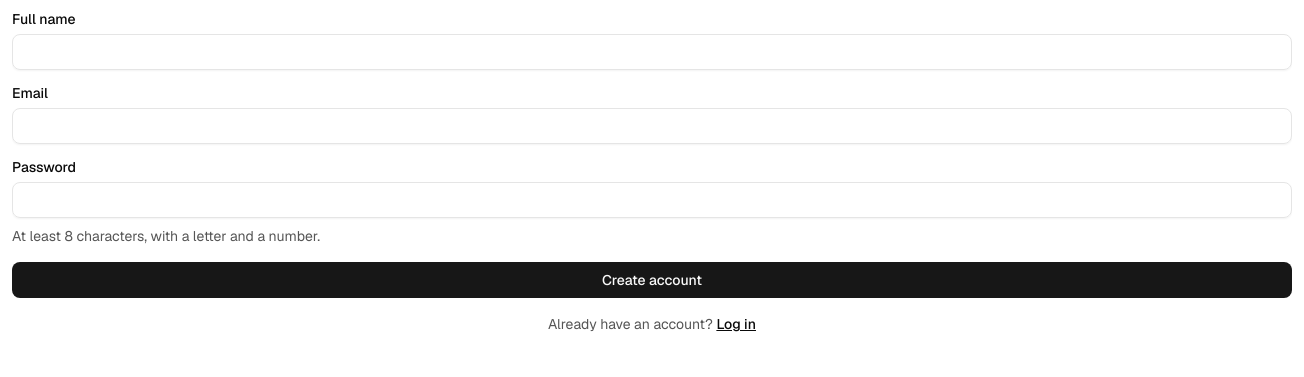
RegisterForm › F01_BR02_EnforcesPasswordPolicyBeforeSubmitting
Type "Ada" into the field labelled "Full name" at point(652, 52), box x1=12 y1=34 x2=1292 y2=70
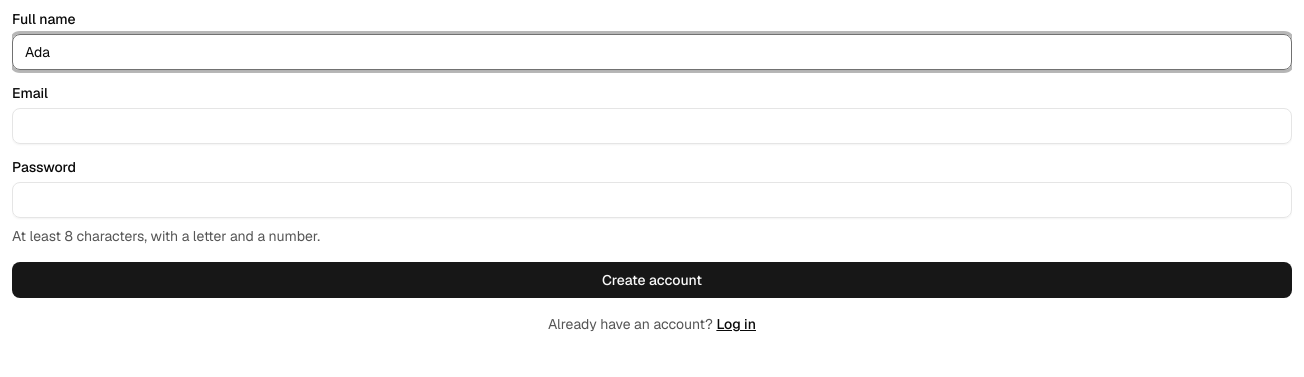
Type "ada@example.com" into the field labelled "Email" at point(652, 126), box x1=12 y1=108 x2=1292 y2=144
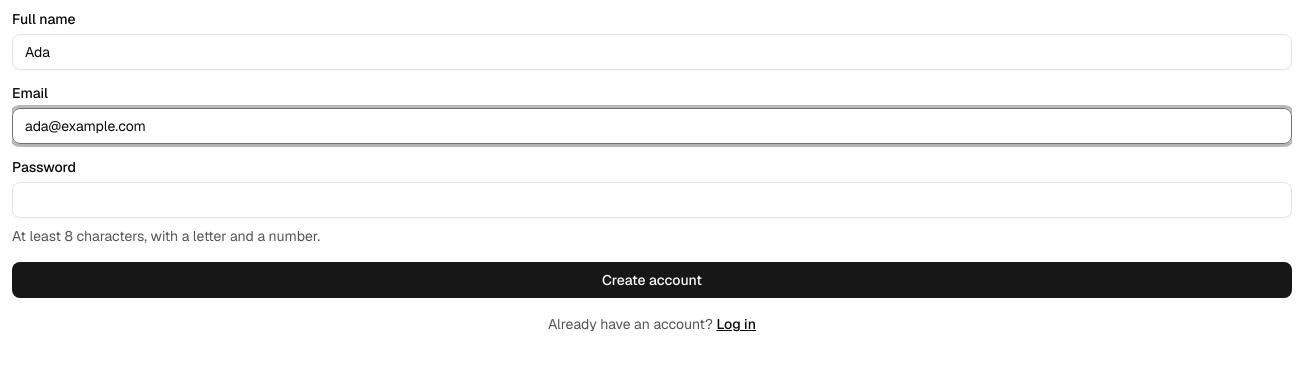
Type "abcdefgh" into the password field labelled "Password" at point(652, 200), box x1=12 y1=182 x2=1292 y2=218
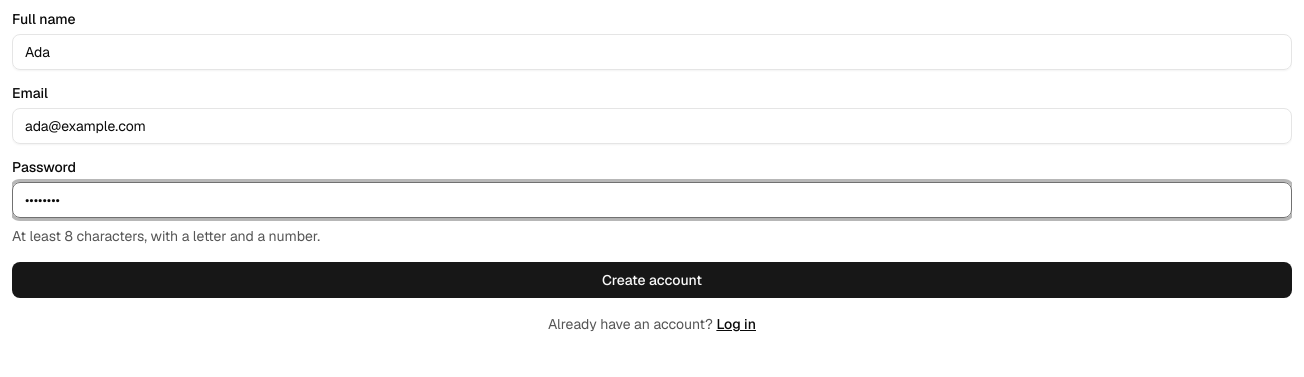
Click the button "Create account" at point(652, 280), box x1=12 y1=262 x2=1292 y2=298
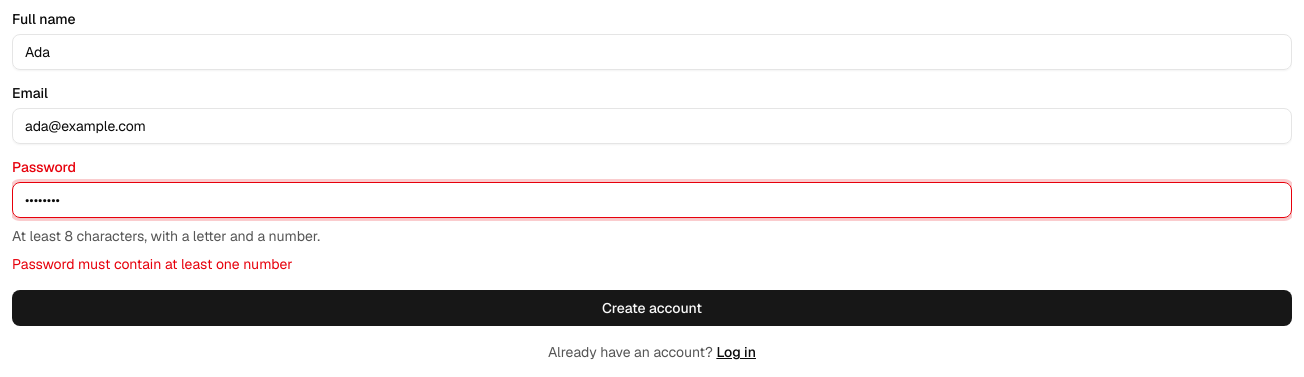
Now the text "Password must contain at least one number" is shown, box x1=12 y1=255 x2=292 y2=273
